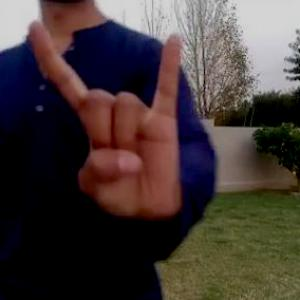takeoff-hand: (24, 12, 188, 220)
